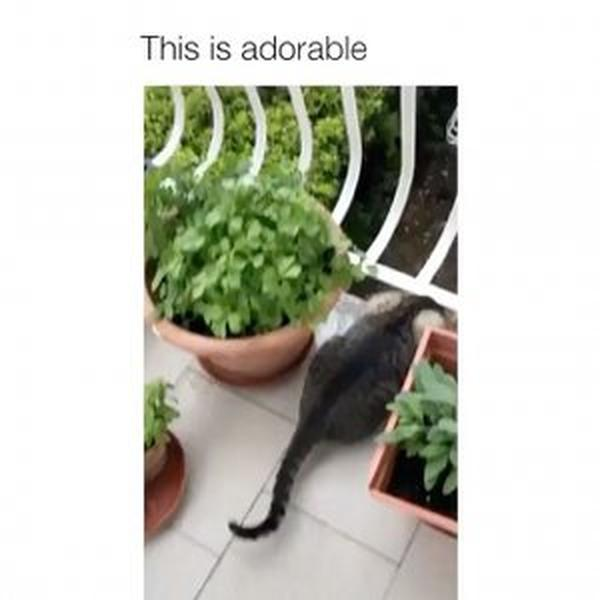michi: (210, 276, 445, 551)
